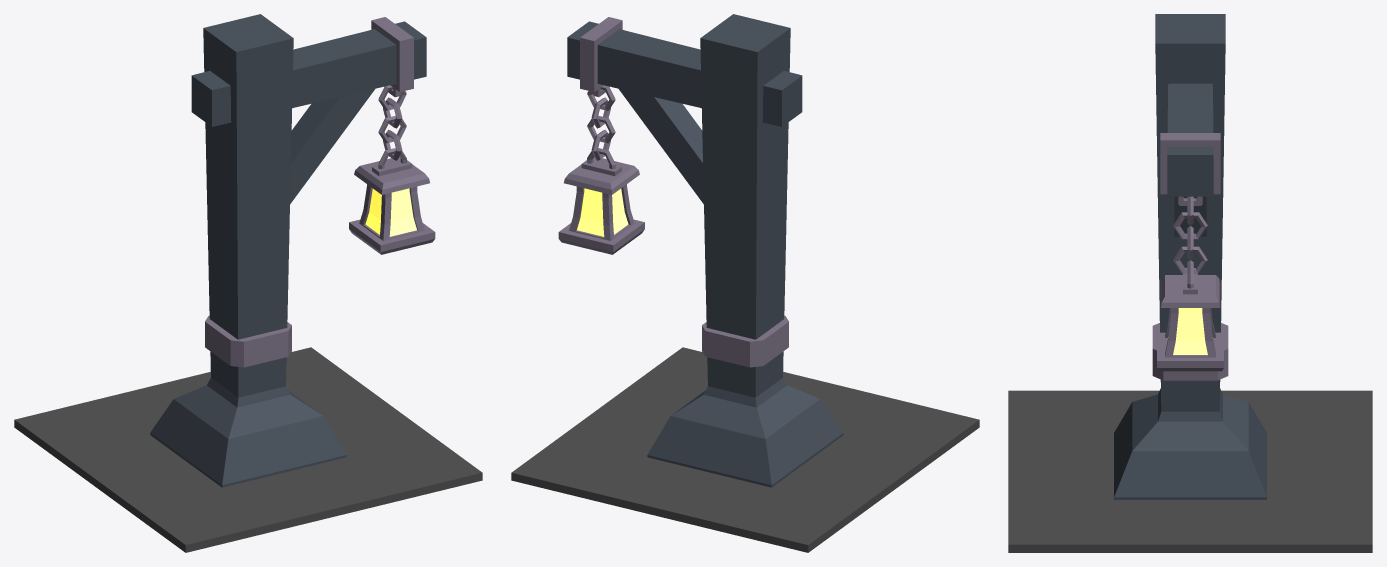
3 views of the same model, side by side, from view 1: azimuth 30°, elevation 25°; view 2: azimuth 150°, elevation 25°; view 3: azimuth 270°, elevation 25° (orthographic). The views are drawn at different scales.
Parts seen in each view (by area): view 1: 立方体.002; view 2: 立方体.002; view 3: 立方体.002.
Boxes of the visible parts, x1=… form: 立方体.002: x1=14, y1=14, x2=482, y2=552; 立方体.002: x1=511, y1=14, x2=979, y2=552; 立方体.002: x1=1008, y1=14, x2=1372, y2=552.
Size of the model in its own units: 215 by 271 by 200.
